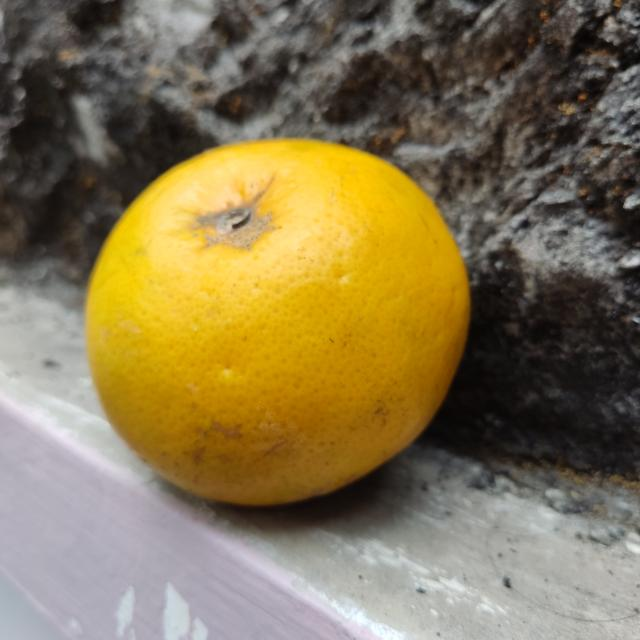orange: (86, 136, 473, 508)
